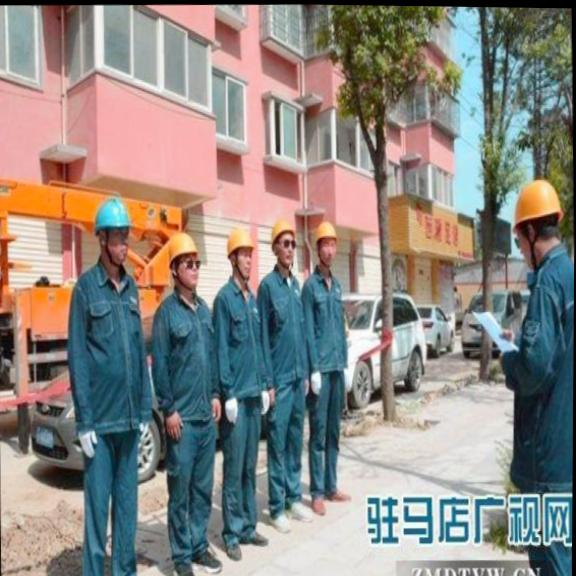no_safety_vest: (72, 272, 146, 441), (516, 254, 574, 466), (160, 293, 216, 422), (263, 264, 306, 384), (308, 261, 348, 373), (225, 278, 261, 399)
